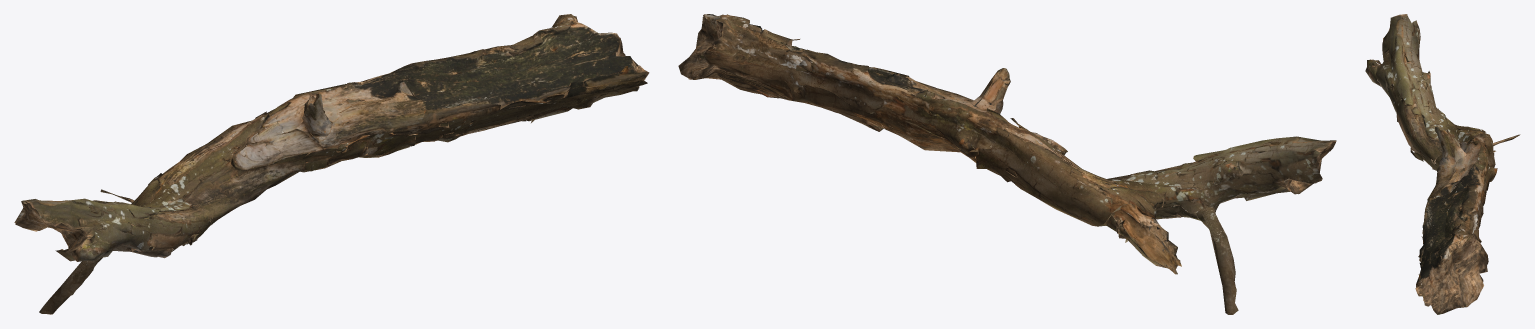
File: log.glb
3 renders of one model, left to right at view 1: azimuth 30°, elevation 25°; view 2: azimuth 150°, elevation 25°; view 3: azimuth 270°, elevation 25°, orthographic. The views are drawn at different scales.
Parts seen in each view (by area): view 1: dead_tree_trunk_02; view 2: dead_tree_trunk_02; view 3: dead_tree_trunk_02.
Boxes of the visible parts, bbox=[...] form: dead_tree_trunk_02: bbox=[14, 14, 649, 314]; dead_tree_trunk_02: bbox=[678, 14, 1336, 314]; dead_tree_trunk_02: bbox=[1365, 14, 1520, 314].
Bounding box in the file's own units: 3 × 0.7823 × 0.775.
Materials: 1 (1 with a texture image).
